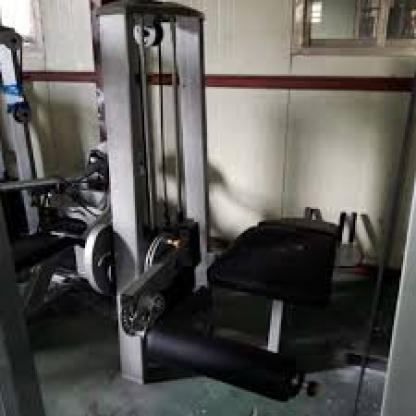reg curl machine: (71, 0, 362, 401)
